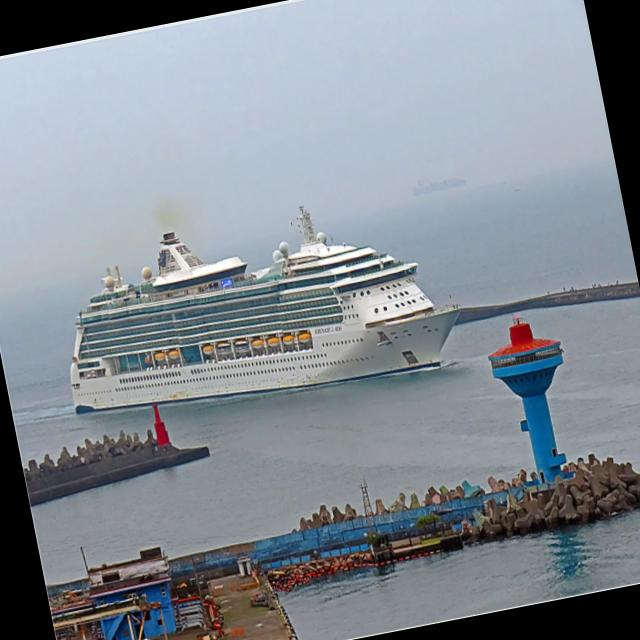Cruise: (70, 207, 459, 414)
